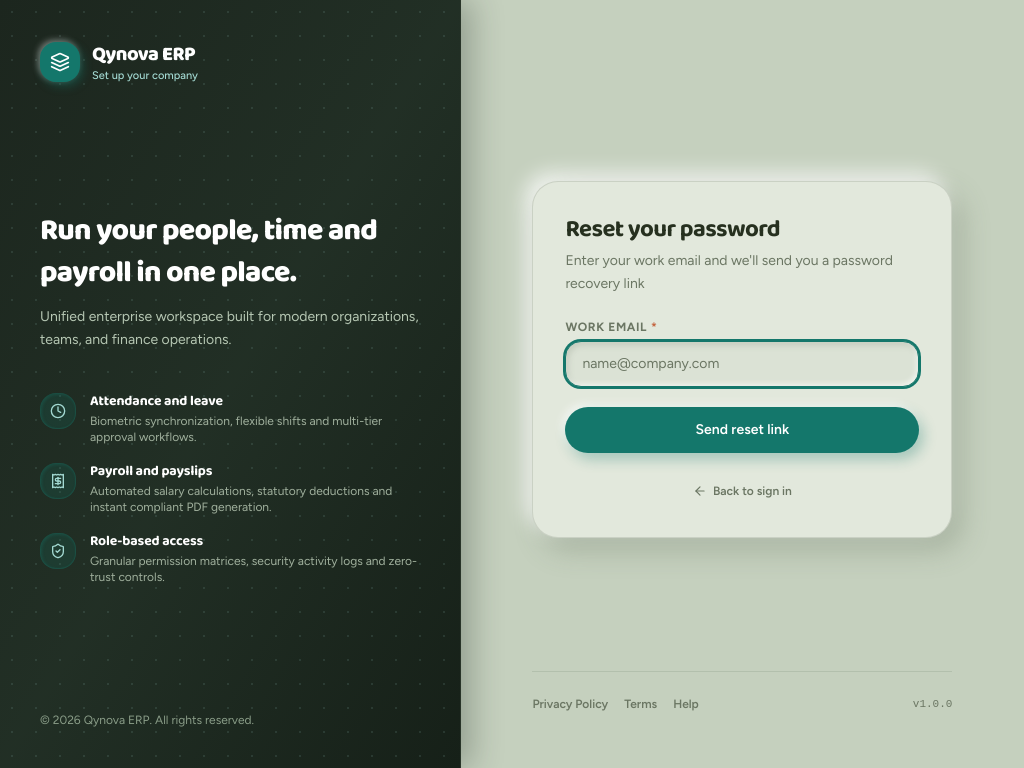
it: Qynova ERP - Enterprise Login Experience Suite › 6. Forgot Password Experience › shows confirmation message on submit for registered account
The width and height of the screenshot is (1024, 768).
In the field labelled "Work email *": [742, 364] box [565,341,919,387], type "someone@company.com"
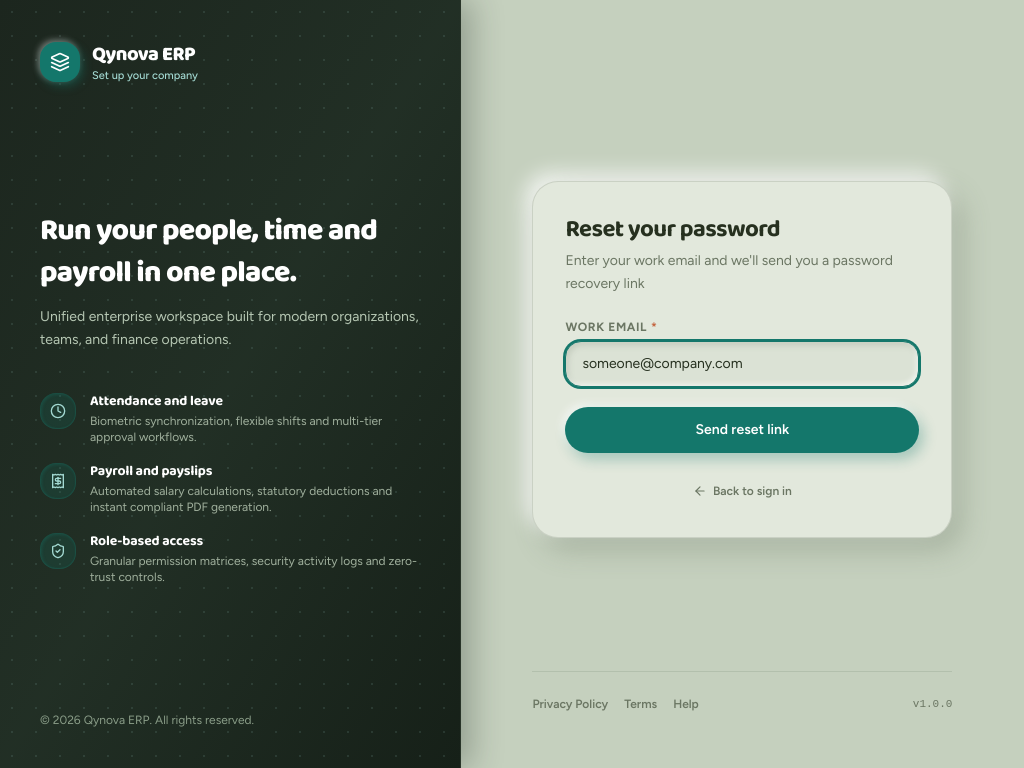
Click the button "Send reset link": [742, 430] box [565,407,919,453]
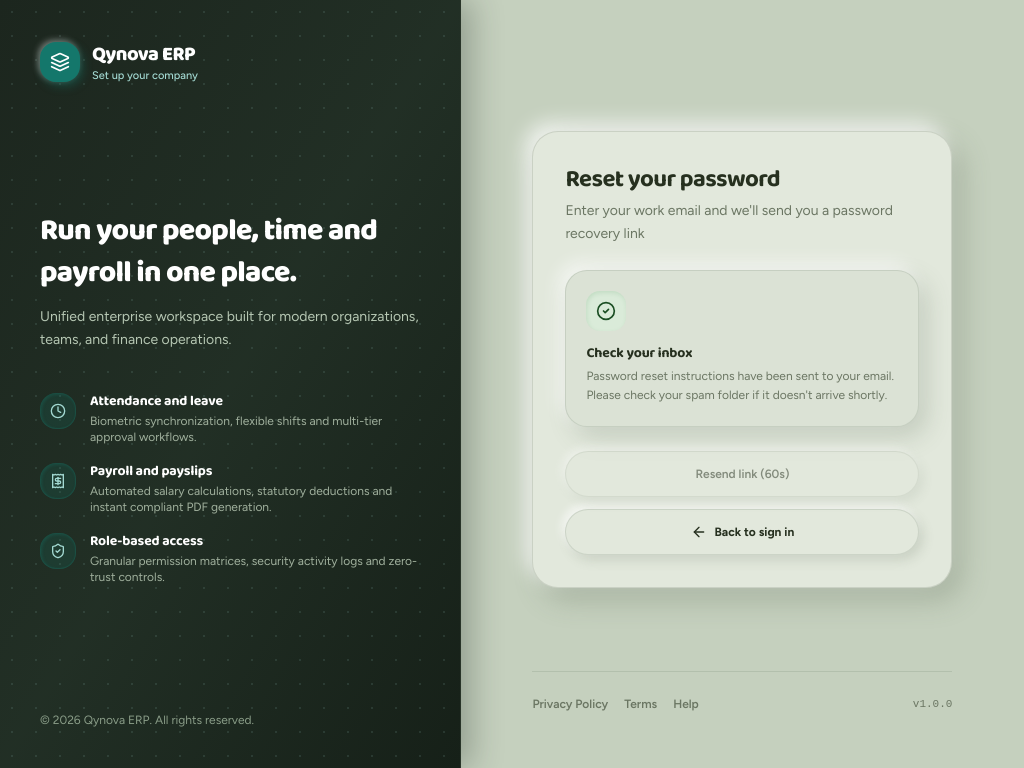
Check: the text "Password reset instructions have been sent to your email." is shown, box [586,369,894,402]
